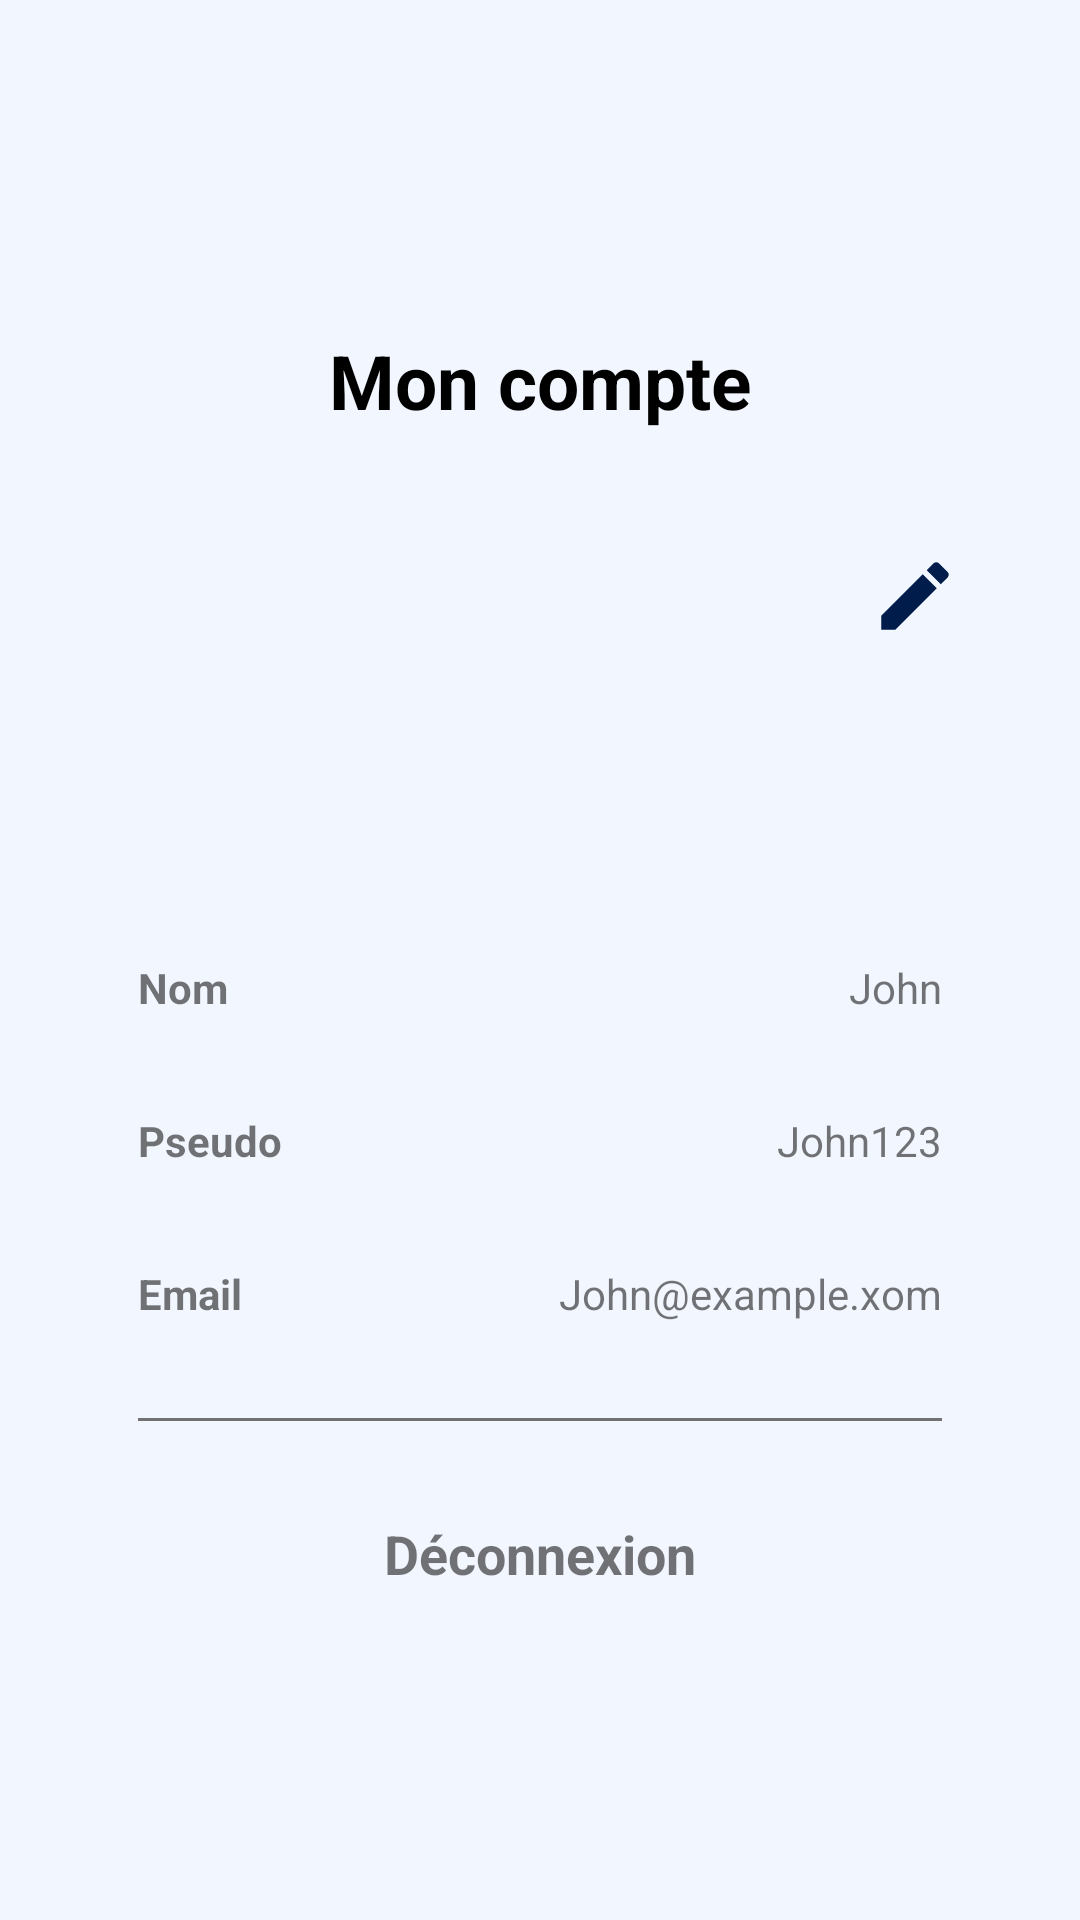

Icons on this 1080w x 1920h Android screen, each with its box as (x1, y1, x2, y2):
edit: (881, 562, 949, 630)
